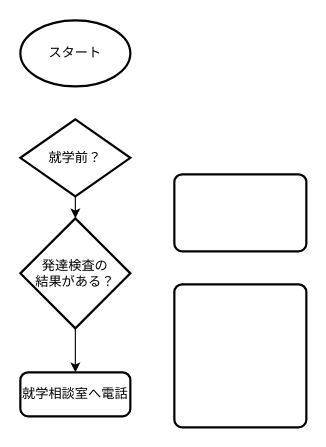
The diagram is 326 pixels wide and 447 high, and some of its shapes have lost their labels. The shapes that lost their labels are listed below. From the top down, each one's centre as x and y in pixels, then its label:
At point 240,212: "保護者が 在籍校及び通級指導学級へ入級・入室の希望を伝える".
At point 240,355: "保護者が 通級または特別支援教室の見学をする この際、通級または特別支援教室の教員と面接し、指導内容等についての説明を受ける".
